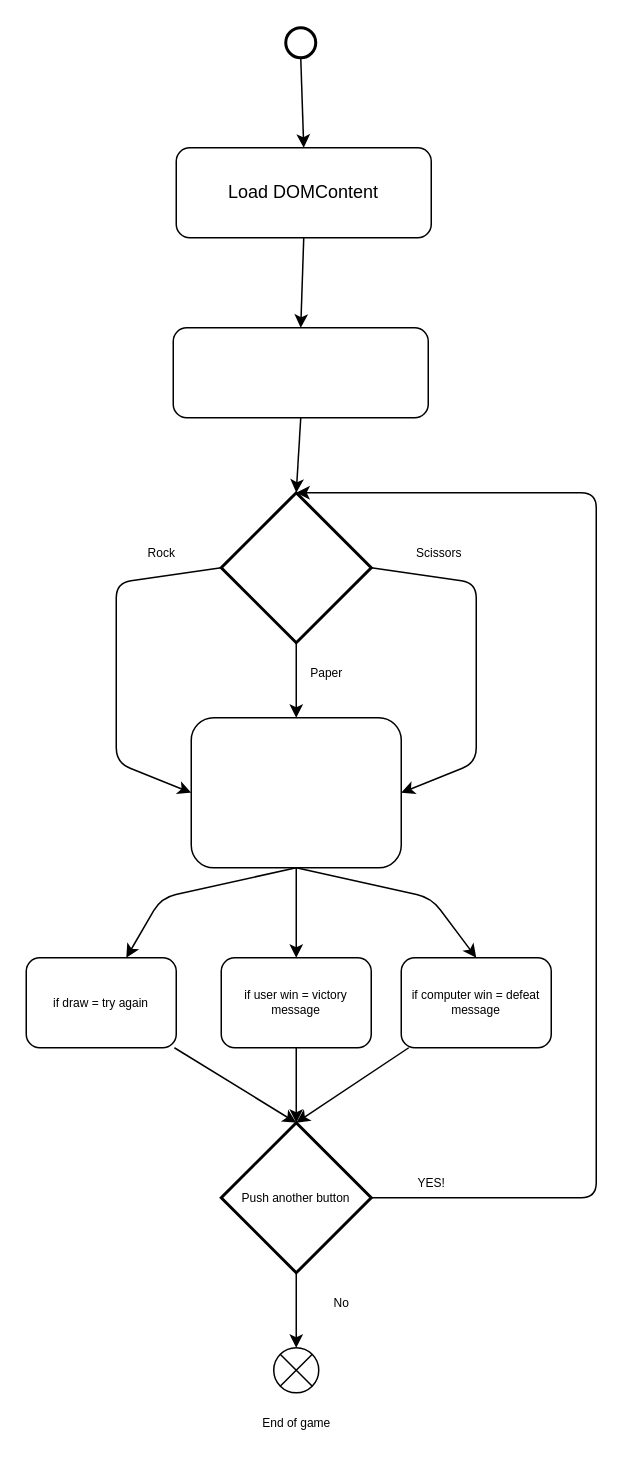
Image size: 635x1463. Some labels were removed from this diagram. Here are the shapes that lost their labels. From the top down, the box of each, then its label:
(172, 326, 428, 418): Add eventlistener to: Choice buttons
(219, 490, 372, 644): User choice: Rock / paper /scissors
(190, 716, 401, 868): getRandomNumber runAnimation compare userChoice to getRandomNumber
